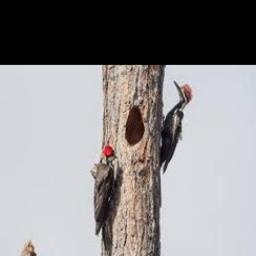Woodpecker: (159, 79, 193, 173), (93, 145, 119, 256)
